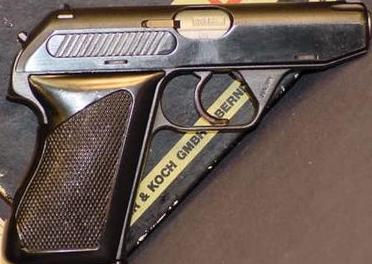gun: (1, 1, 372, 264)
